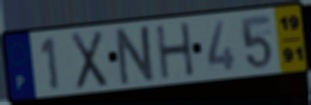1: (39, 36, 61, 92)
4: (205, 18, 238, 73)
5: (238, 13, 277, 71)
H: (153, 20, 197, 81)
N: (114, 22, 158, 88)
X: (69, 28, 109, 92)
